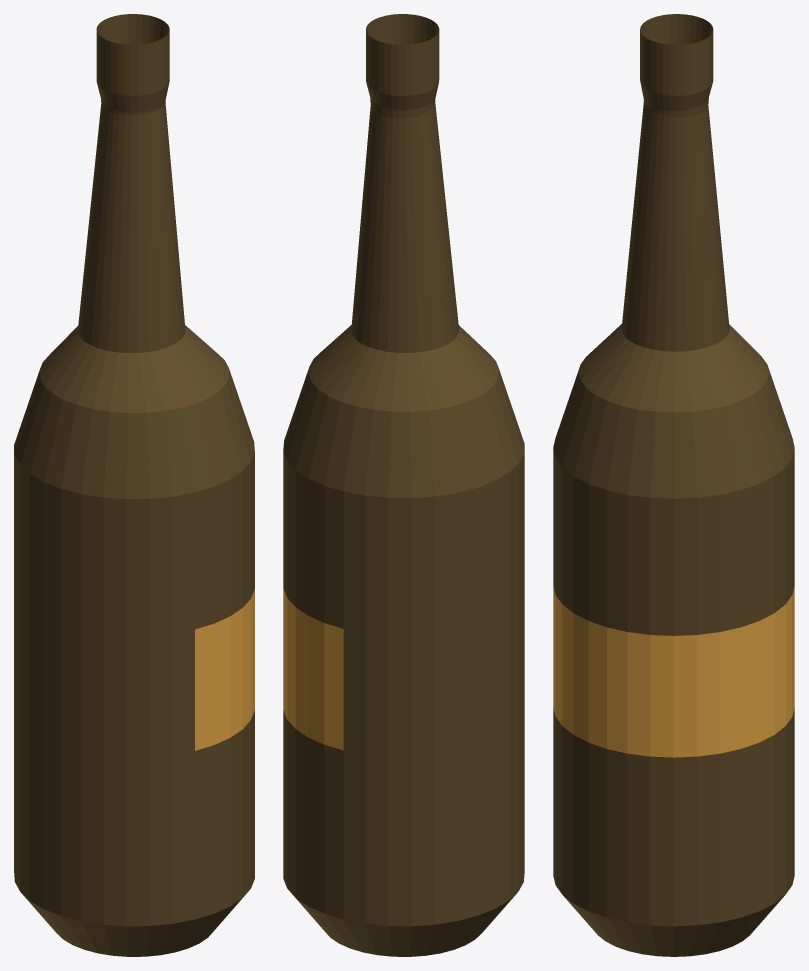
The model's file is BeerBottle.fbx.
3 renders of one model, left to right at view 1: azimuth 30°, elevation 25°; view 2: azimuth 150°, elevation 25°; view 3: azimuth 270°, elevation 25°, orthographic.
Parts seen in each view (by area): view 1: Bottle; view 2: Bottle; view 3: Bottle.
Boxes of the visible parts, x1,y1,x2,y2 form: Bottle: (14, 14, 254, 956); Bottle: (283, 14, 524, 956); Bottle: (553, 14, 794, 956).
Size of the model in its own units: 7.43 by 7.43 by 30.31.
